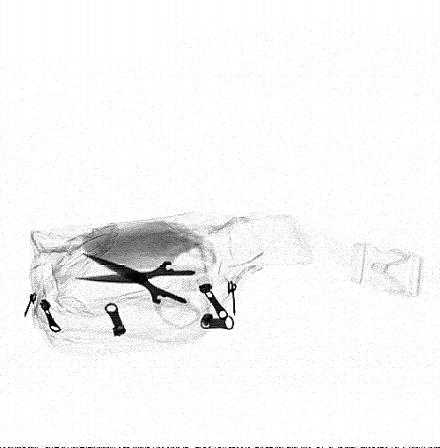Scissors: (73, 242, 220, 334)
